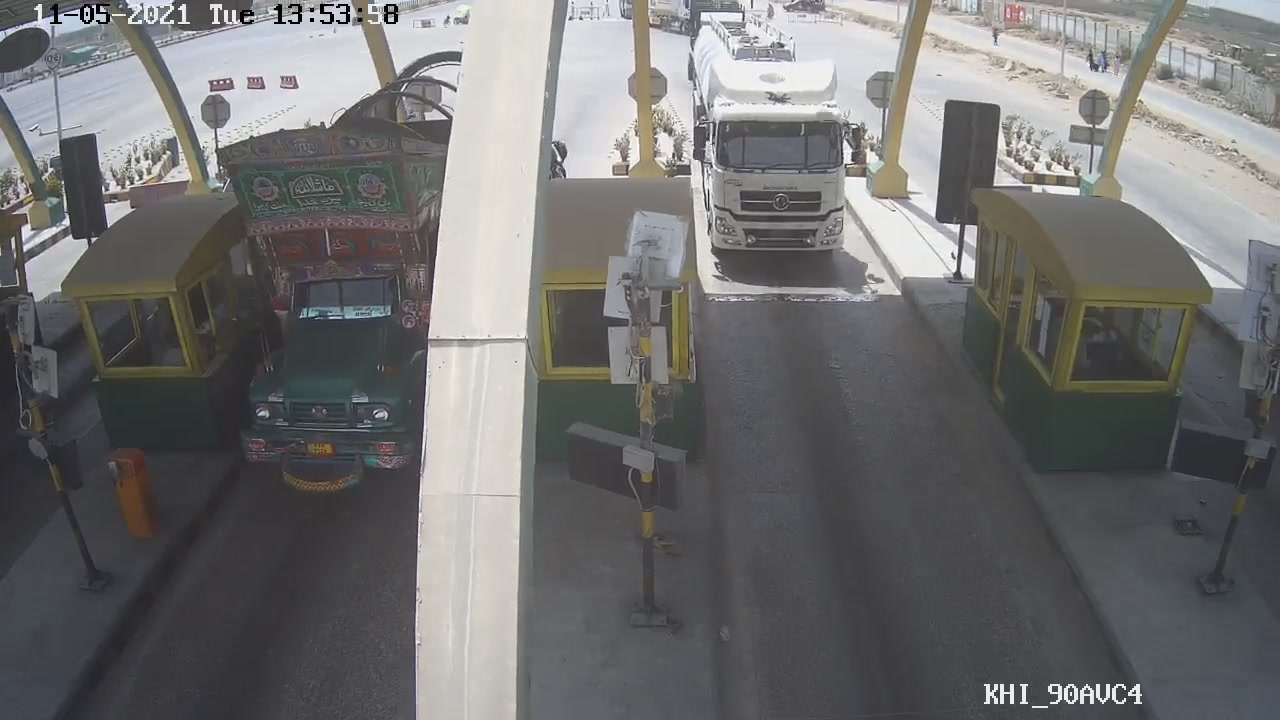F6: (692, 14, 869, 269)
